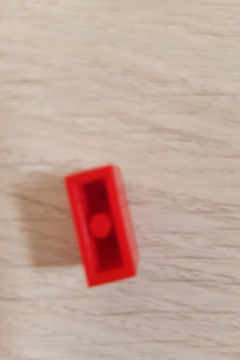1x2 red: (60, 161, 144, 288)
